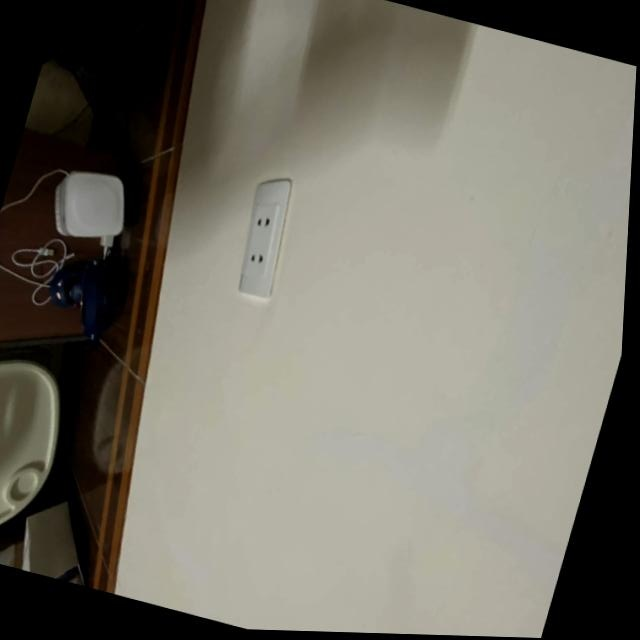outlet: (228, 170, 305, 301)
